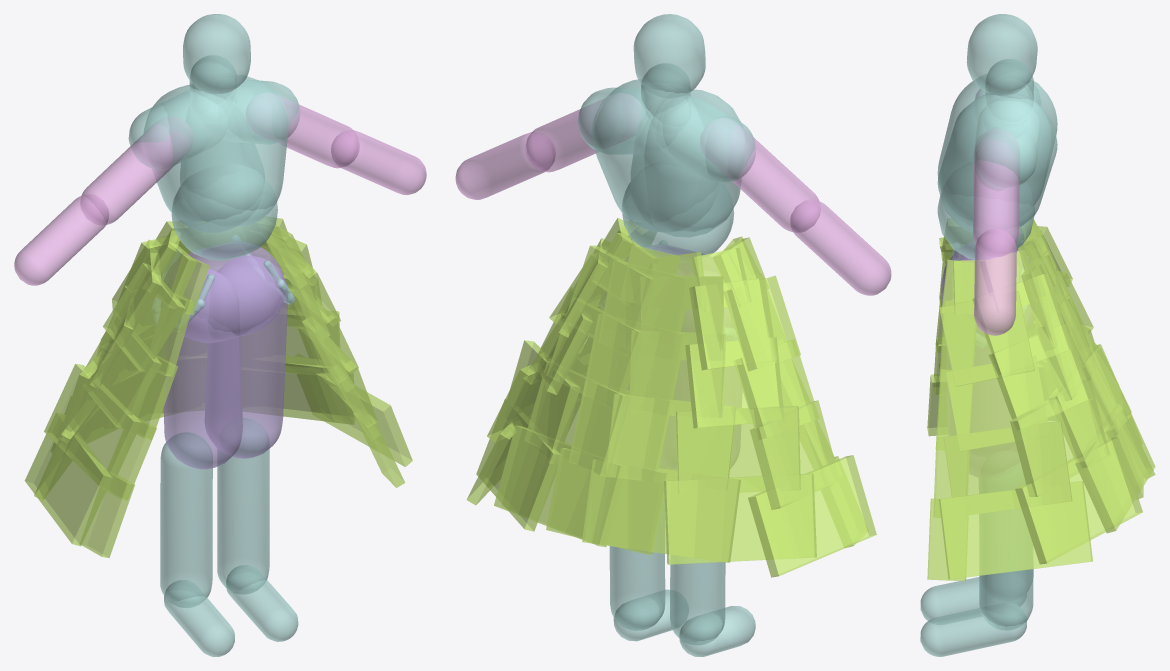
The model's file is gsan.fbx.
3 renders of one model, left to right at view 1: azimuth 30°, elevation 25°; view 2: azimuth 150°, elevation 25°; view 3: azimuth 270°, elevation 25°, orthographic. The views are drawn at different scales.
Parts seen in each view (by area): view 1: 左足, 上半身2右, 右足, 上半身2左, 右ひざ, 左ひざ, 下半身, 上半身, 右コートB04, 右コートB05, 右腕, 右コートB02 (+35 smaller); view 2: 上半身2右, 右コートD05, 右コートC05, 上半身2左, 左コートD05, 右コートD04, 右コートB05, 右コートC04, 左コートD04, コートE05, 右コートC02, 右腕 (+41 smaller); view 3: 左コートB05, 上半身2左, 左コートB04, 左コートC05, 左ひざ, 左コートB03, 左コートC04, 上半身2右, 左腕, 左コートC03, 左コートB02, 左コートC02 (+33 smaller).
Boxes of the visible parts, box(x1,y1,x2,y2) form: 左足: box(205, 256, 287, 458); 上半身2右: box(144, 84, 264, 232); 右足: box(162, 269, 242, 469); 上半身2左: box(180, 75, 288, 227); 右ひざ: box(160, 432, 212, 607); 左ひざ: box(217, 418, 269, 594); 下半身: box(169, 241, 284, 342); 上半身: box(171, 164, 277, 260); 右コートB04: box(44, 364, 141, 489); 右コートB05: box(24, 413, 112, 546); 右腕: box(80, 116, 192, 225); 右コートB02: box(103, 263, 185, 371); 上半身2右: box(631, 89, 742, 237); 右コートD05: box(582, 459, 740, 562); 右コートC05: box(664, 473, 816, 564); 上半身2左: box(592, 79, 719, 231); 左コートD05: box(494, 425, 626, 546); 右コートD04: box(605, 393, 736, 489); 右コートB05: box(748, 455, 876, 577); 右コートC04: box(676, 405, 800, 494); 左コートD04: box(524, 361, 630, 476); コートE05: box(546, 448, 666, 554); 右コートC02: box(689, 277, 777, 370); 右腕: box(700, 118, 820, 232); 左コートB05: box(939, 481, 1092, 579); 上半身2左: box(937, 93, 1057, 232); 左コートB04: box(943, 421, 1072, 515); 左コートC05: box(1015, 437, 1142, 564); 左ひざ: box(979, 464, 1033, 630); 左コートB03: box(946, 356, 1049, 451); 左コートC04: box(1010, 379, 1109, 496); 上半身2右: box(937, 74, 1057, 221); 左腕: box(973, 129, 1019, 256); 左コートC03: box(989, 323, 1093, 429); 左コートB02: box(939, 291, 1034, 386); 左コートC02: box(972, 273, 1072, 374).
Bounding box in the file's own units: 385 × 550 × 188.
